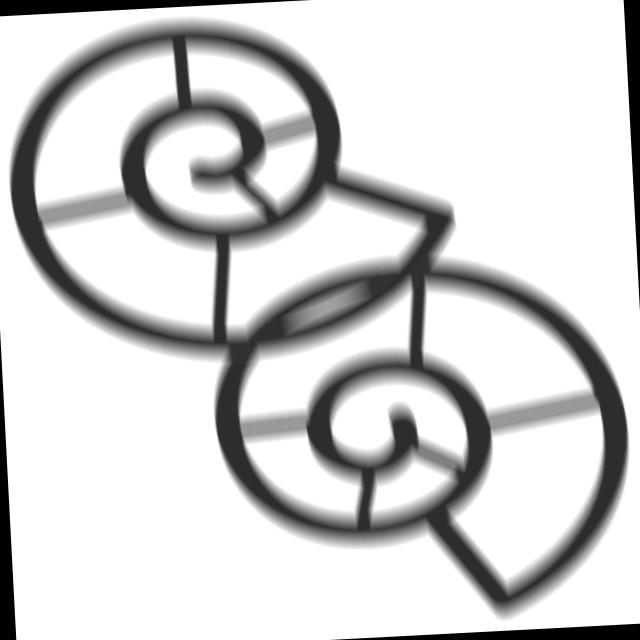fossil: (1, 1, 474, 384), (191, 236, 640, 638)
